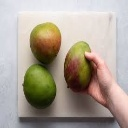mango: (21, 64, 58, 109), (64, 41, 93, 94)
